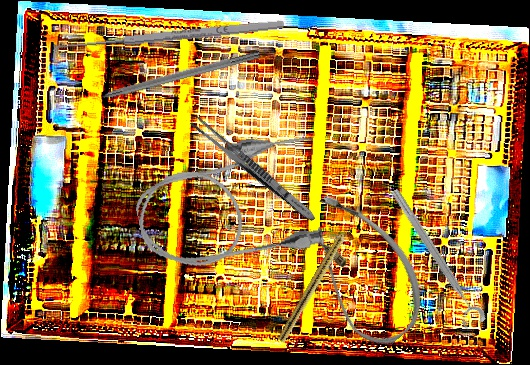Cannula: (126, 125, 336, 282), (275, 180, 445, 358)
Dressing Forceps: (187, 114, 320, 225)
Fixation Ring: (380, 185, 488, 333)
Handpiece: (276, 218, 357, 345)
Hook Surgical: (49, 16, 287, 64), (78, 48, 262, 107)
